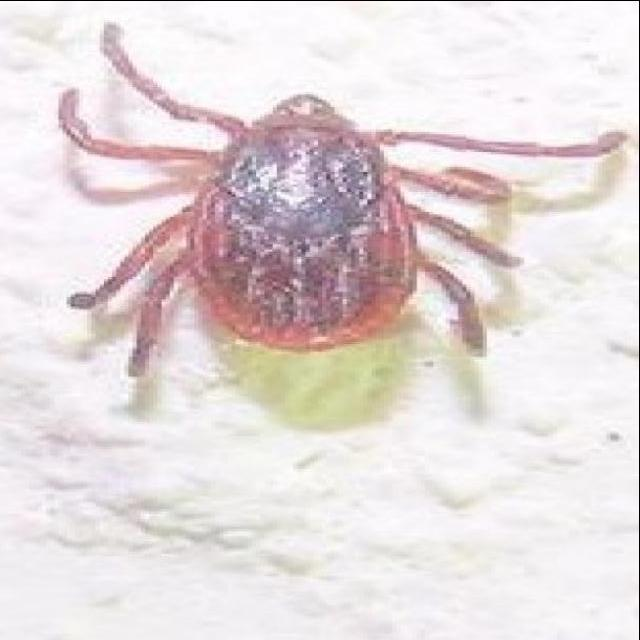Rhipicephalus Sanguineus-F: (59, 21, 628, 381)
